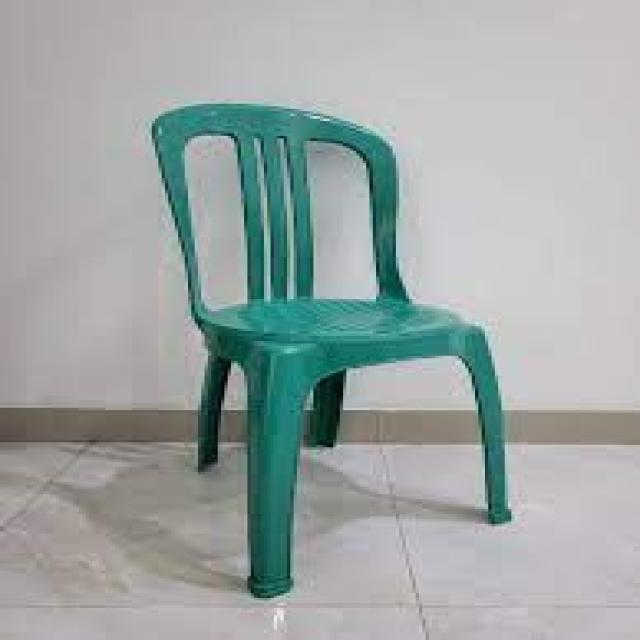chair: (97, 96, 544, 612)
